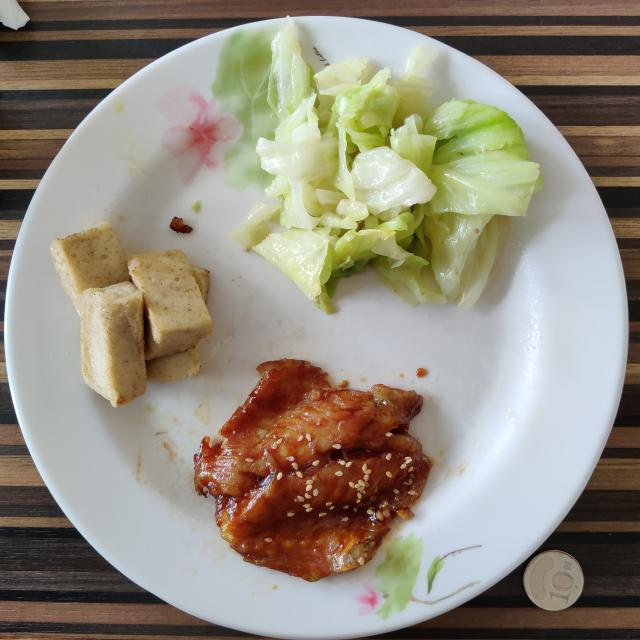Kabayaki sea bream fillet: (194, 359, 431, 581)
cabbage: (230, 20, 542, 311)
coin: (524, 550, 584, 610)
creamy tofu -without sauce-: (51, 221, 212, 408)
